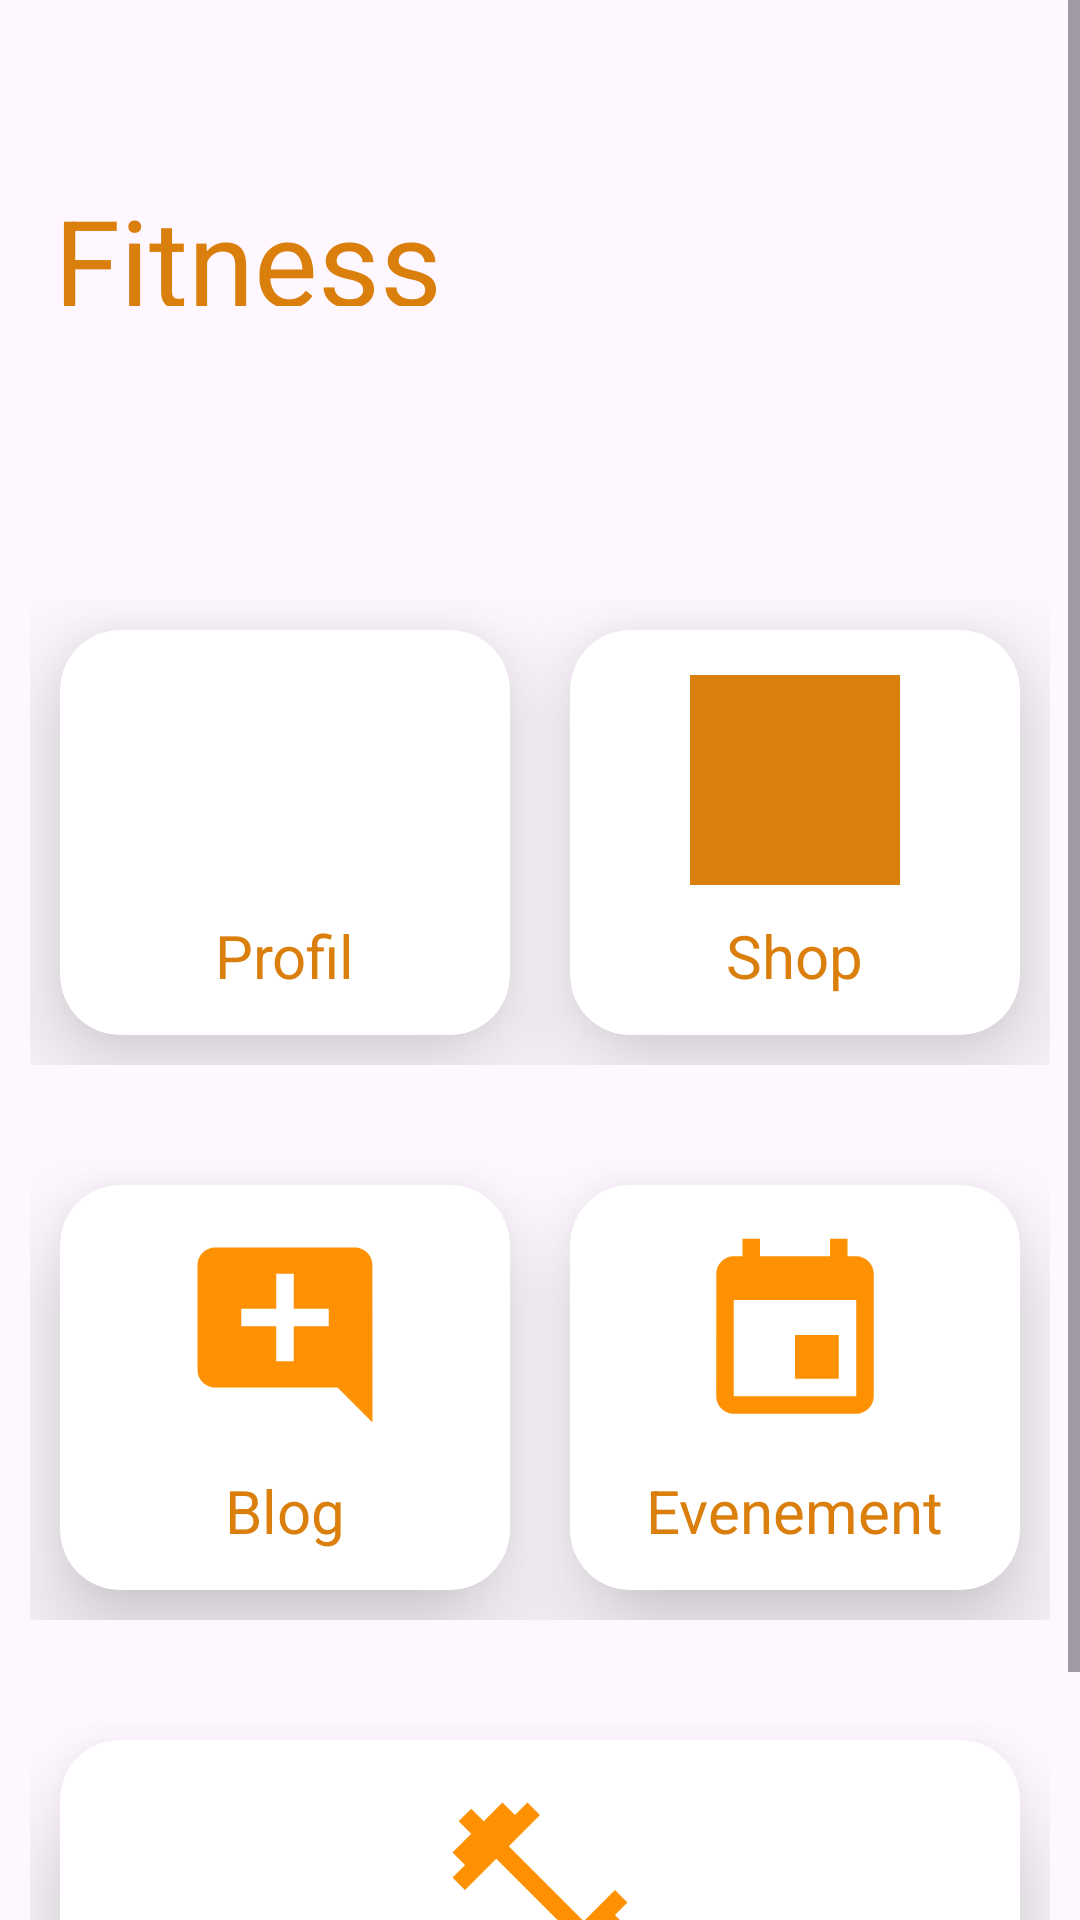

Named icons in this screenshot (1080px x 1920px) and their centers, (x,y):
add comment: (285,1335)
event: (795,1326)
